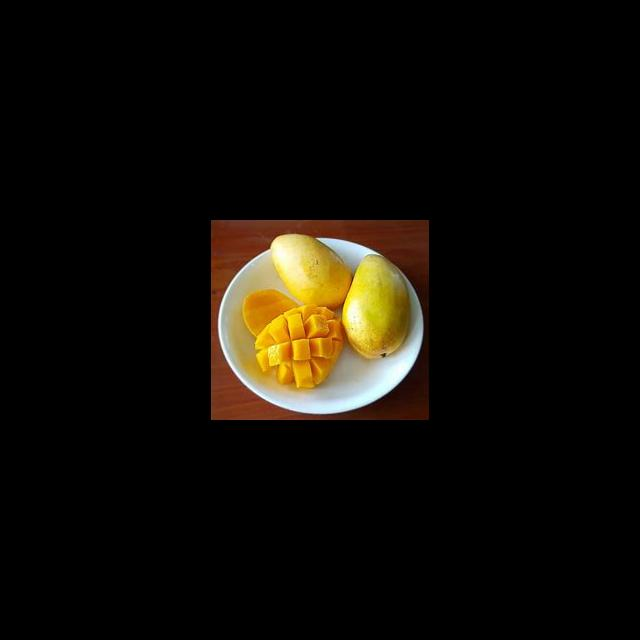mango: (341, 254, 410, 360), (270, 234, 353, 310)
